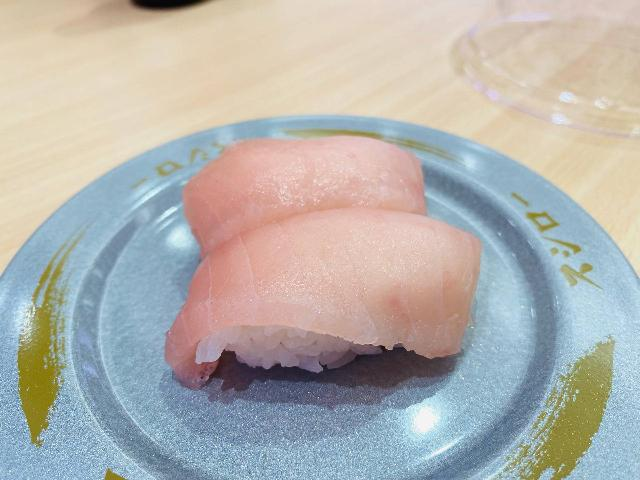janwhite: (6, 162, 640, 472)
